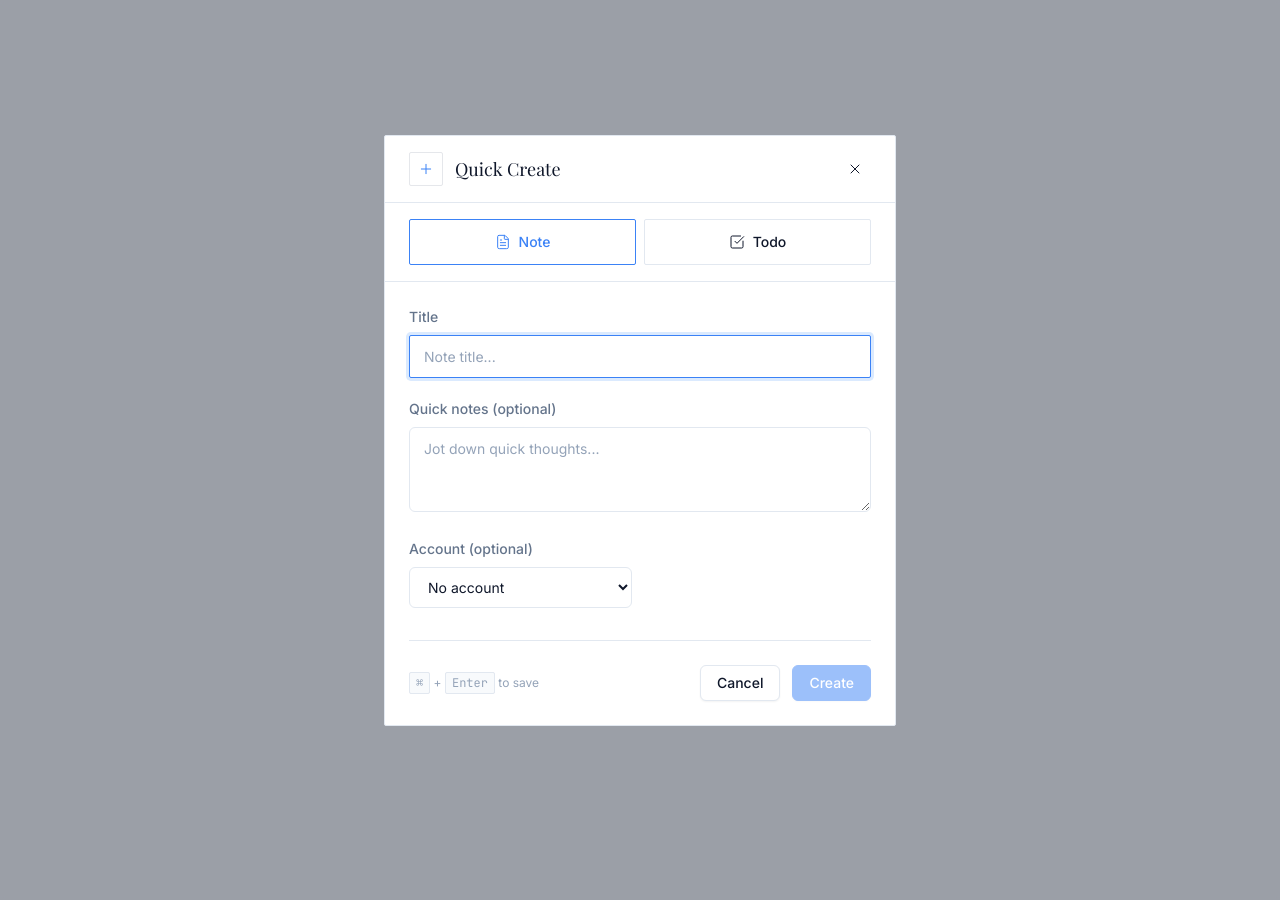
QuickCapture › switches between note and todo modes
Click the button "Todo" at (758, 242), box [644,219,871,265]
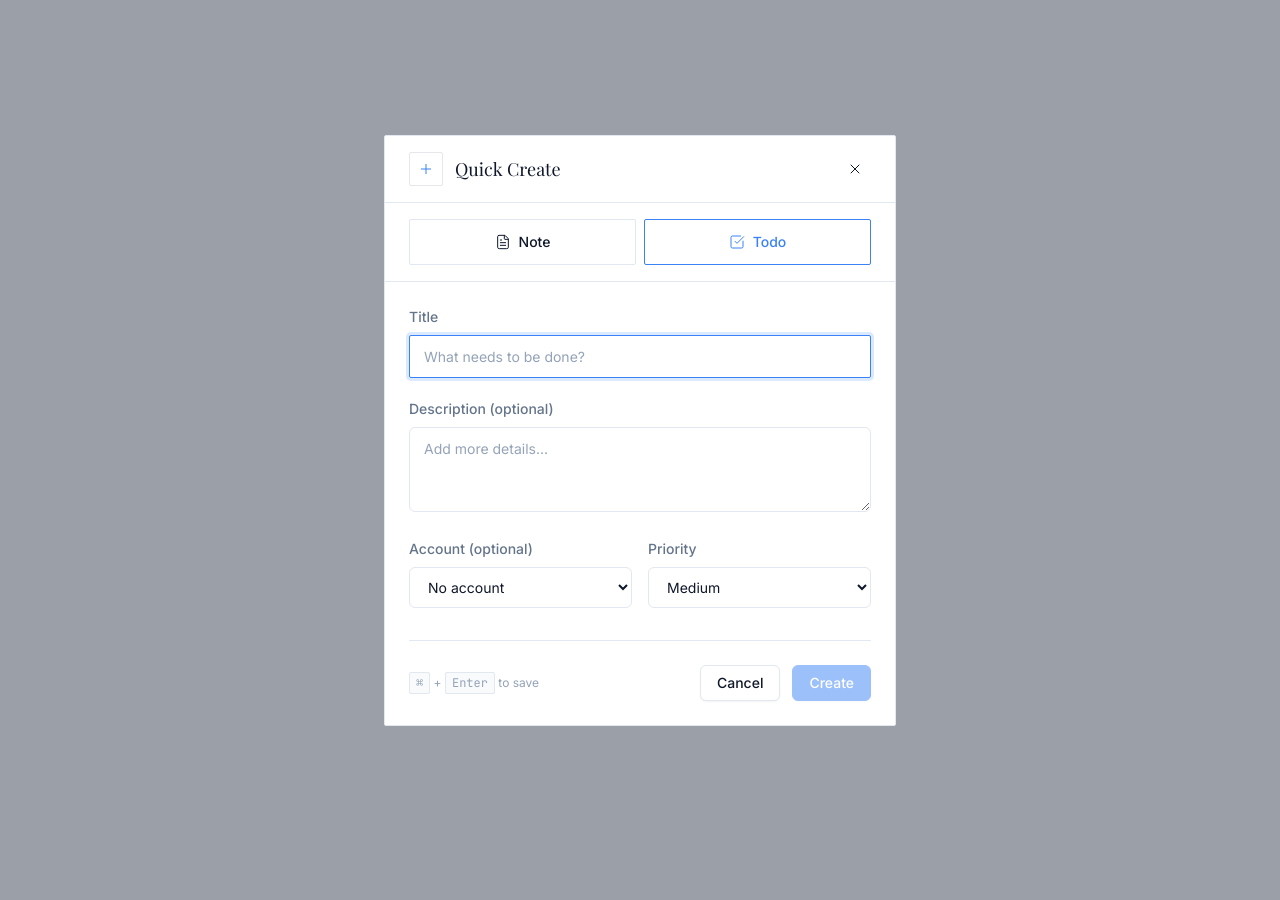
Check: the text box with placeholder "Add more details..." is shown, box [409,427,871,512]
